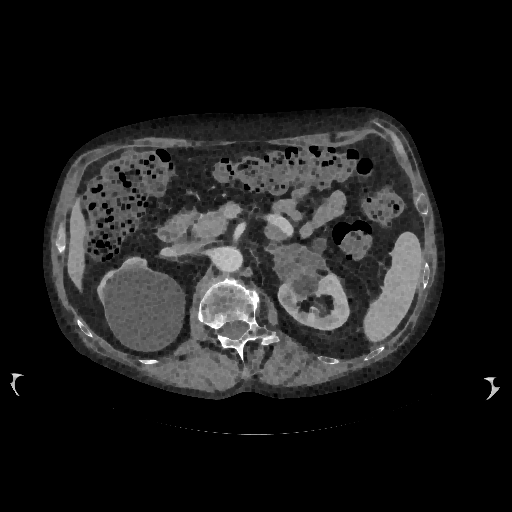Lesion: (267, 243, 332, 286)
